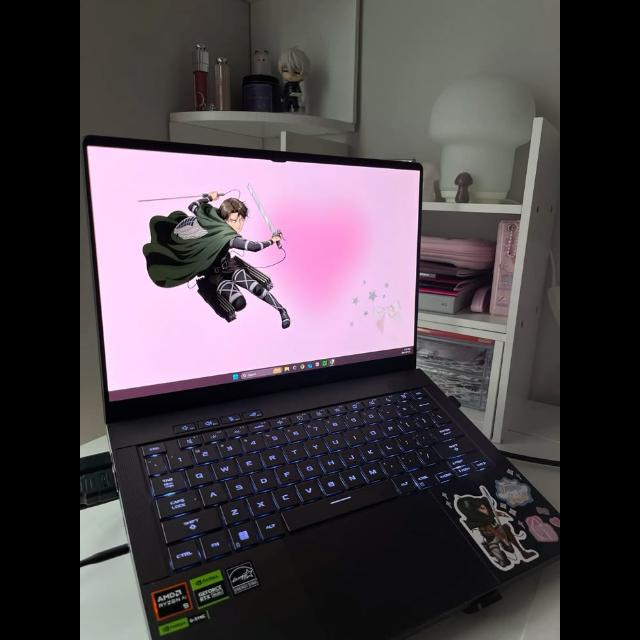laptop: (80, 135, 560, 639)
